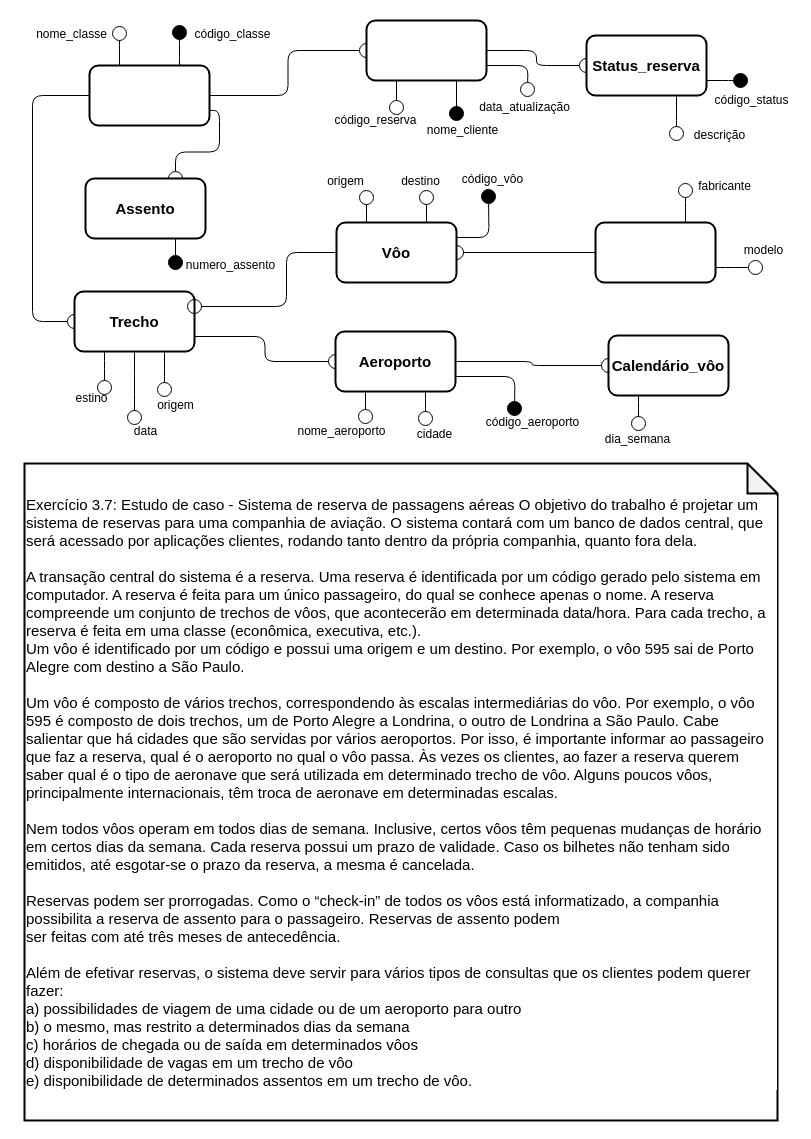
This 811x1139 diagram has some shape labels left out. Each missing label, with the centre of its shape:
Aeronave: [655,252]
Classe: [149,95]
Reserva: [426,50]
